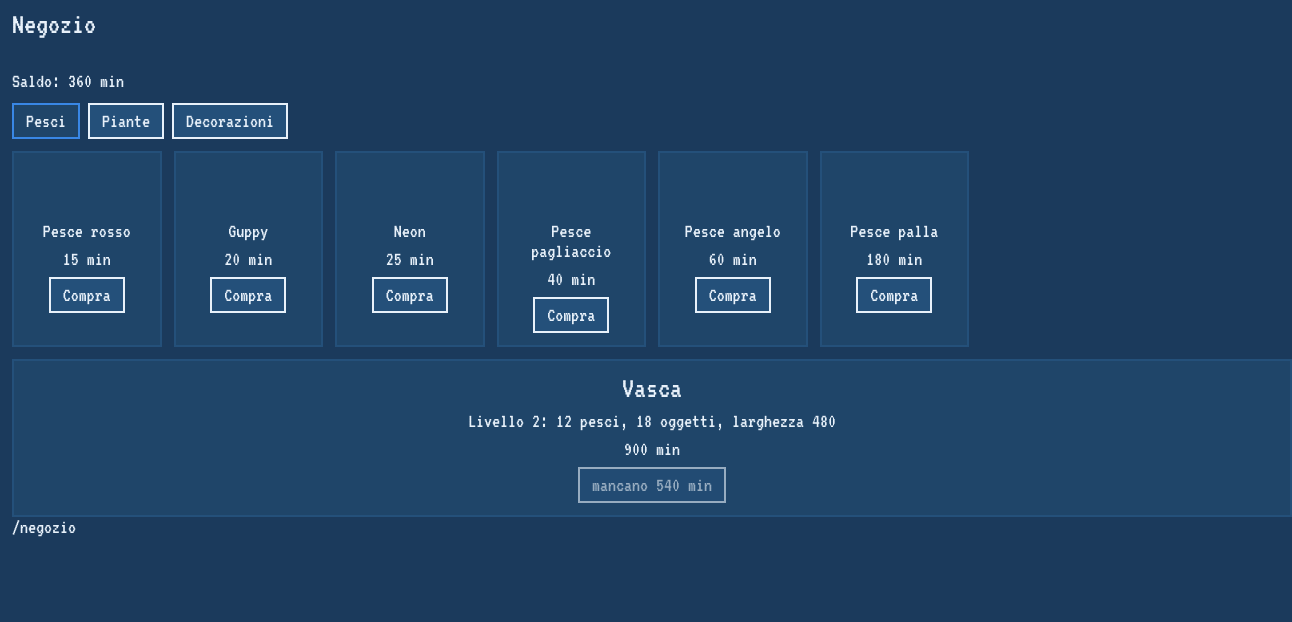
it: ShopScreen › owned unique item shows Posseduto
This screenshot has width=1292, height=622.
Click the tab "Decorazioni".
click(230, 121)  # box [172,103,288,139]
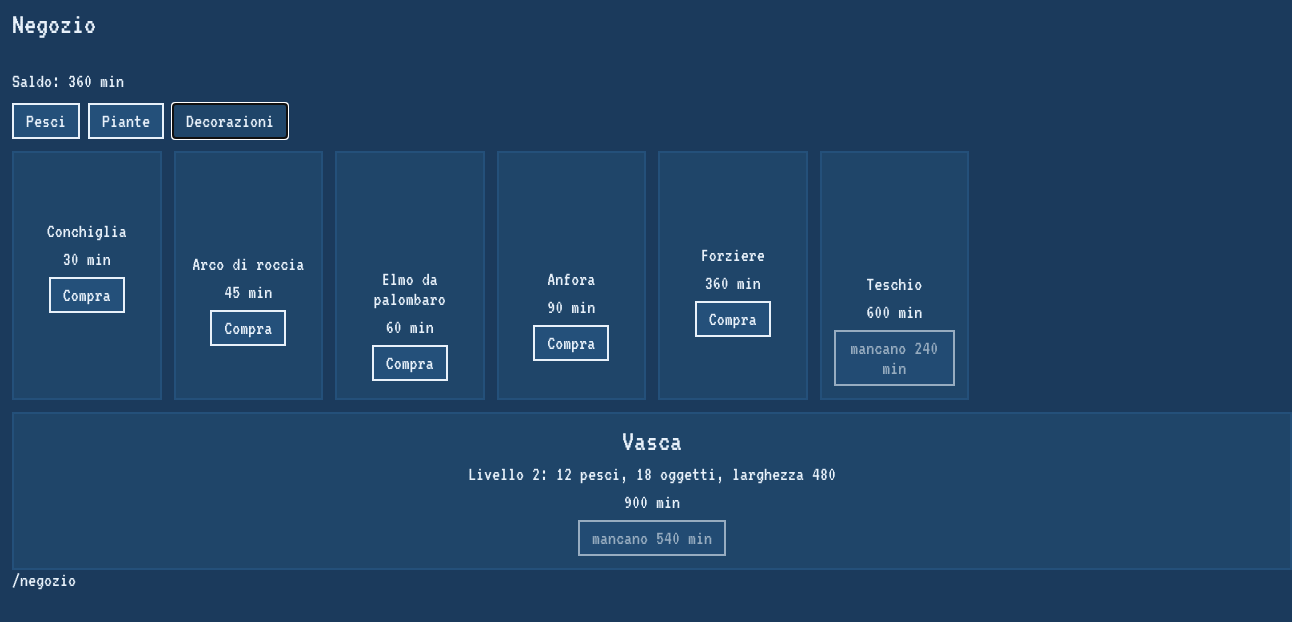
Click the button "Compra" below "Forziere".
click(733, 319)  # box [695,301,771,337]
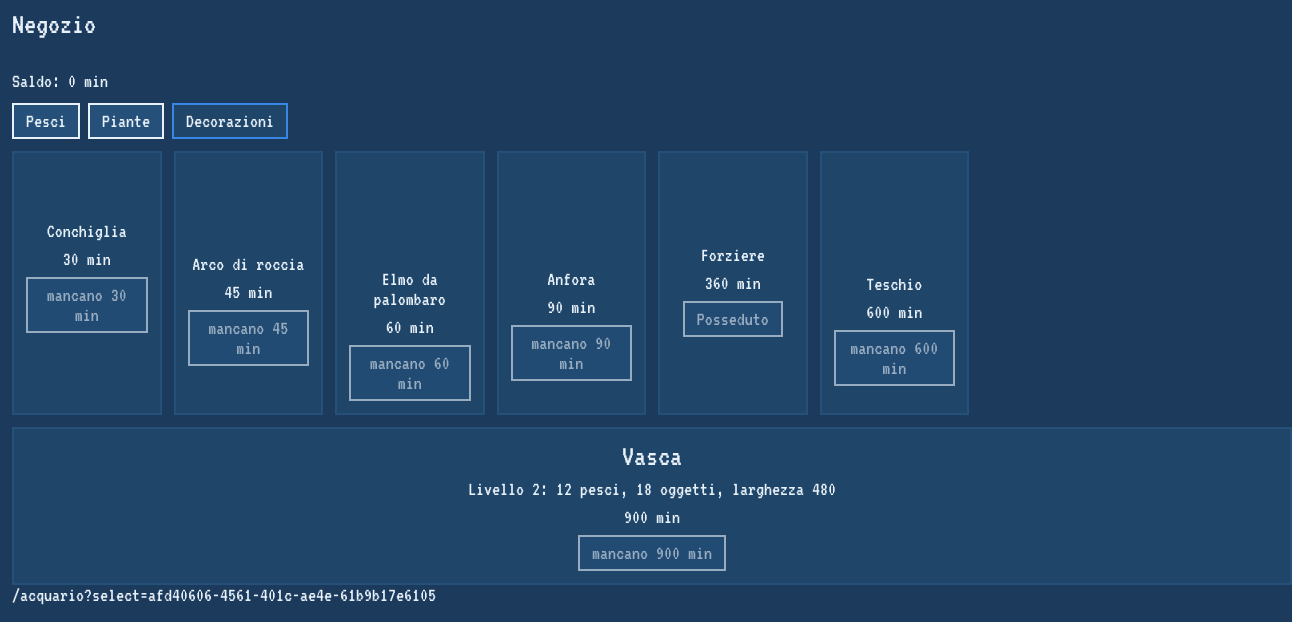
Check: the button "Posseduto" is shown, box [683,301,783,337]
Check: the button "Posseduto" is disabled, box [683,301,783,337]
